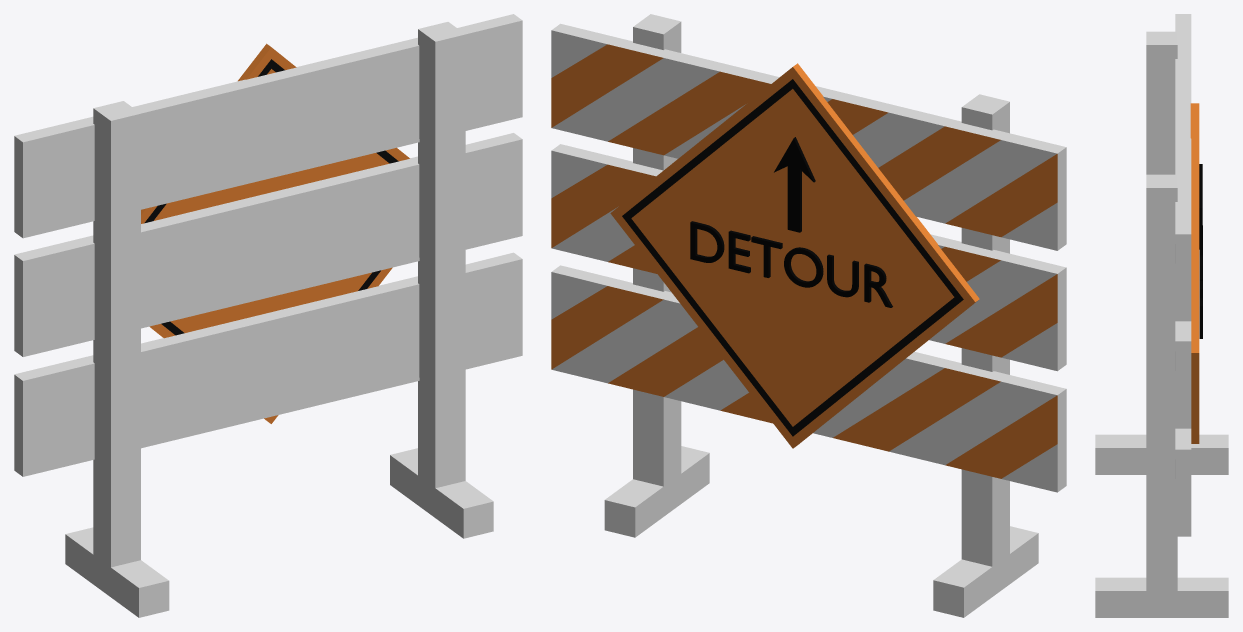
Rendered from detour_straight.fbx.
3 renders of one model, left to right at view 1: azimuth 30°, elevation 25°; view 2: azimuth 150°, elevation 25°; view 3: azimuth 270°, elevation 25°, orthographic. The views are drawn at different scales.
Visible parts, largest first — view 1: detour roadblock with orange sign; view 2: detour roadblock with orange sign; view 3: detour roadblock with orange sign.
Boxes of the visible parts, bbox=[...] form: detour roadblock with orange sign: bbox=[14, 14, 522, 617]; detour roadblock with orange sign: bbox=[551, 14, 1066, 617]; detour roadblock with orange sign: bbox=[1095, 14, 1228, 617].
Bounding box in the file's own units: 308 × 287 × 78.64.
